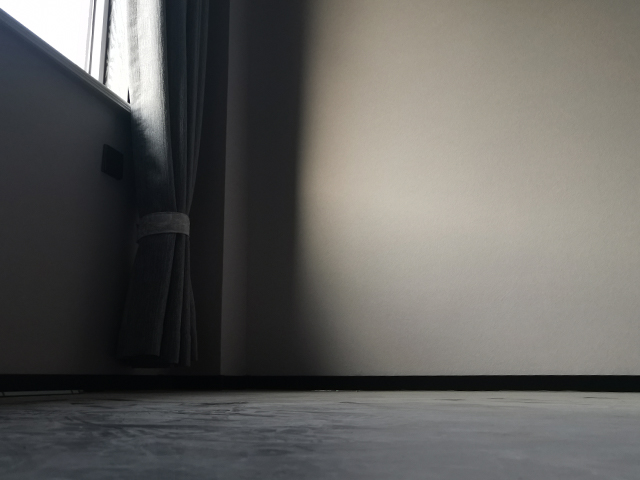curtain: (113, 1, 212, 369)
